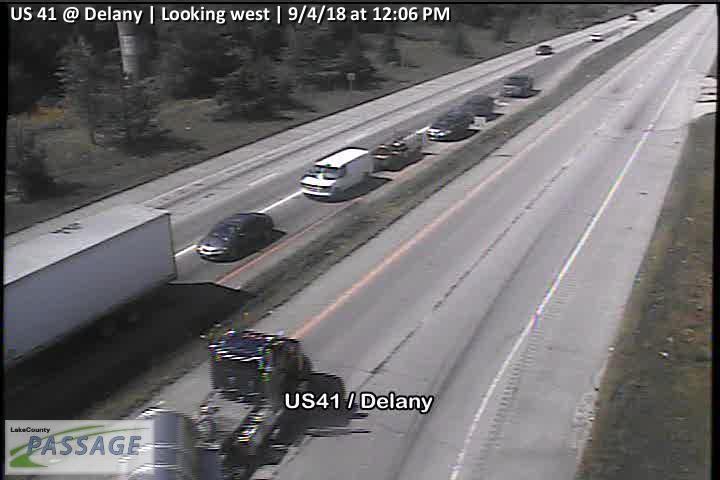SUV: (297, 147, 374, 201), (428, 112, 475, 142), (466, 95, 497, 119)
Sedan: (193, 211, 276, 264), (534, 42, 554, 56), (589, 31, 602, 43)
Truck: (101, 327, 340, 480), (3, 201, 179, 376), (374, 135, 424, 172), (503, 72, 535, 99)
